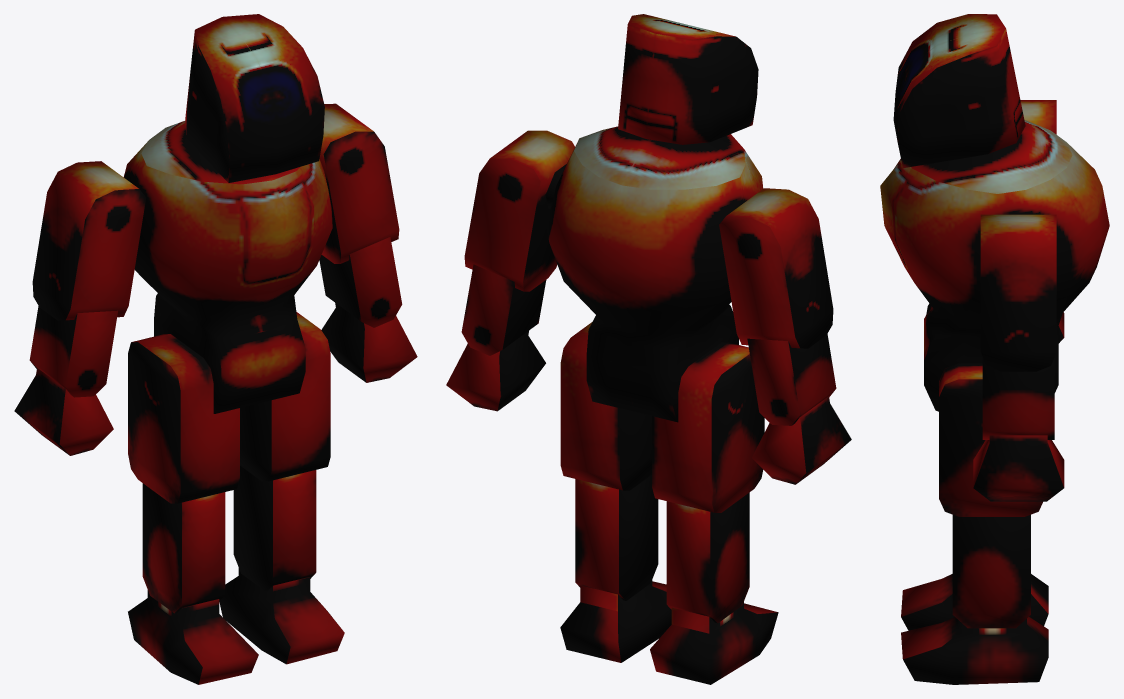
Rendered from RobotPlaceholder.gltf.
The picture shows the model from 3 angles, left to right: view 1: azimuth 30°, elevation 25°; view 2: azimuth 150°, elevation 25°; view 3: azimuth 270°, elevation 25°; orthographic projection.
Parts seen in each view (by area): view 1: Robot; view 2: Robot; view 3: Robot.
Boxes of the visible parts, box(x1,y1,x2,y2) form: Robot: box(14, 14, 417, 684); Robot: box(446, 14, 851, 684); Robot: box(880, 14, 1109, 684).
Size of the model in its own units: 1.53 by 2.53 by 0.8504.
1 material, 1 textured.
